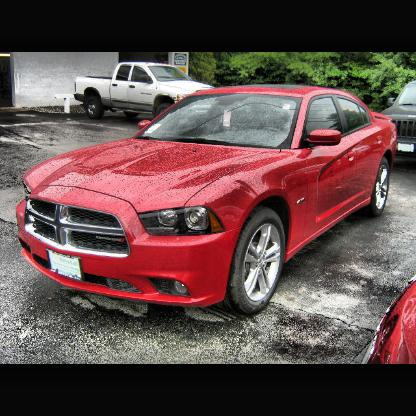Dodge Charger Sedan 2012: (14, 83, 400, 317)
